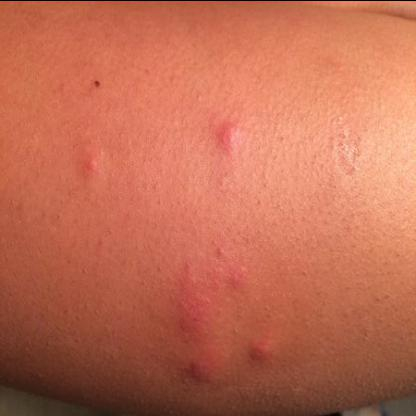Bed Bug: (180, 232, 246, 338), (205, 116, 251, 160), (246, 327, 276, 367), (182, 353, 216, 385), (76, 148, 104, 186)
